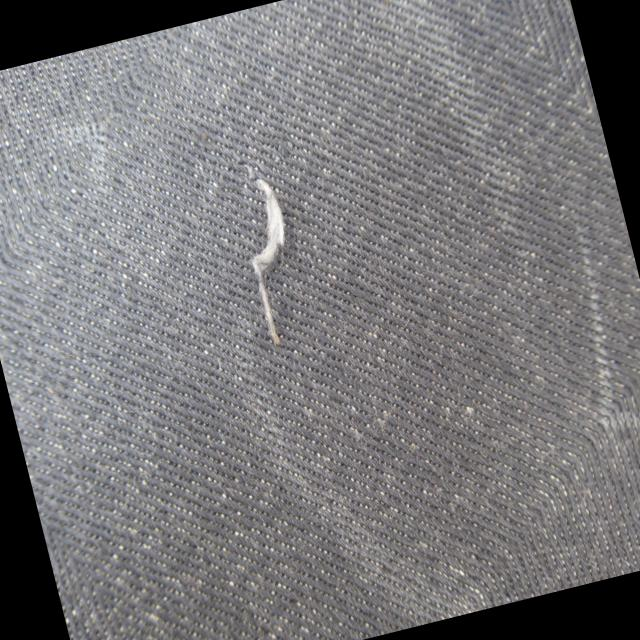selvet: (212, 139, 330, 347)
